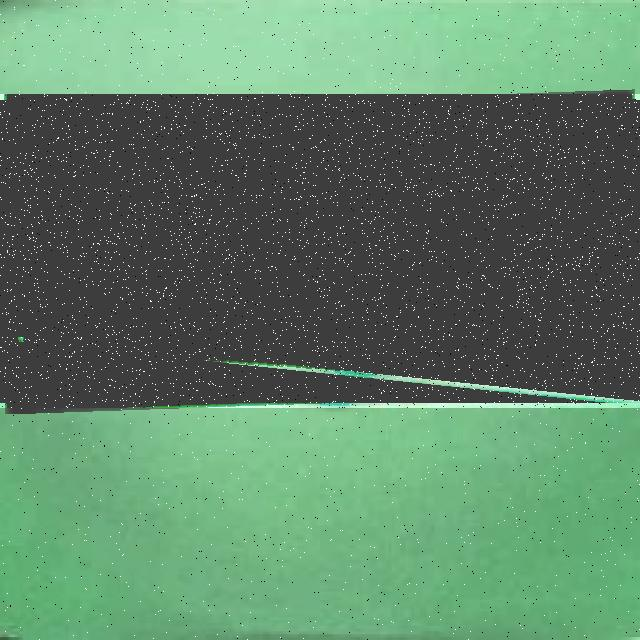dua ribu rupiah: (0, 94, 640, 408)
